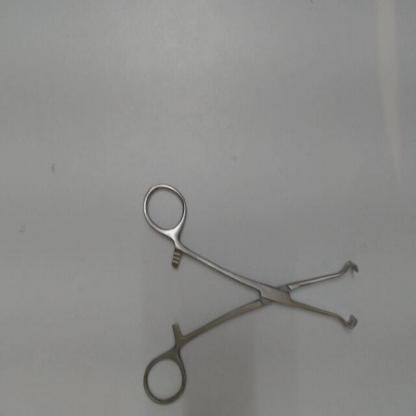Babcock Tissue Forceps: (137, 178, 363, 414)
